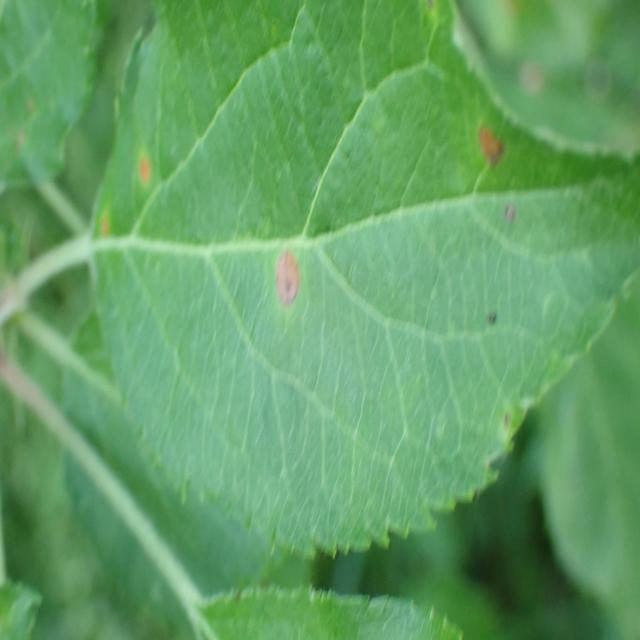Black Rot: (247, 233, 302, 349), (469, 186, 523, 281), (105, 145, 169, 219), (469, 115, 537, 180)
